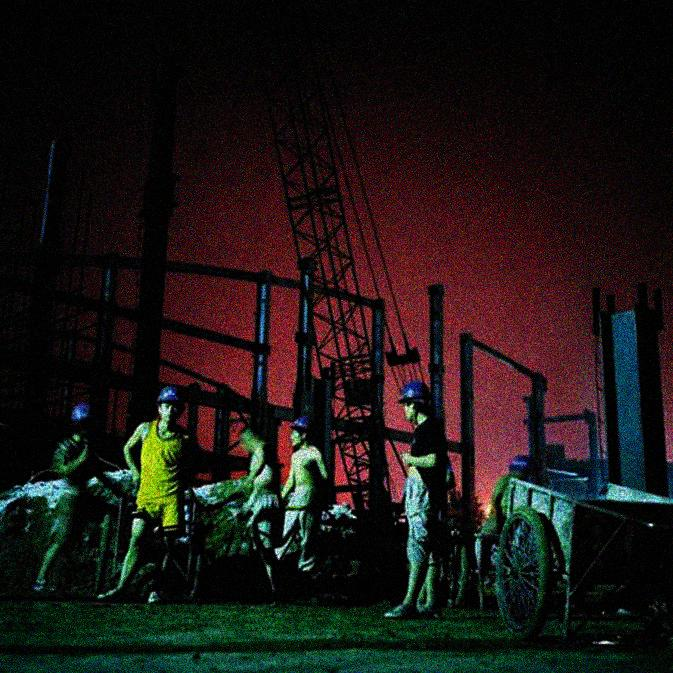helmet: (394, 380, 428, 421), (155, 384, 187, 427), (69, 403, 97, 437), (287, 415, 313, 449)
